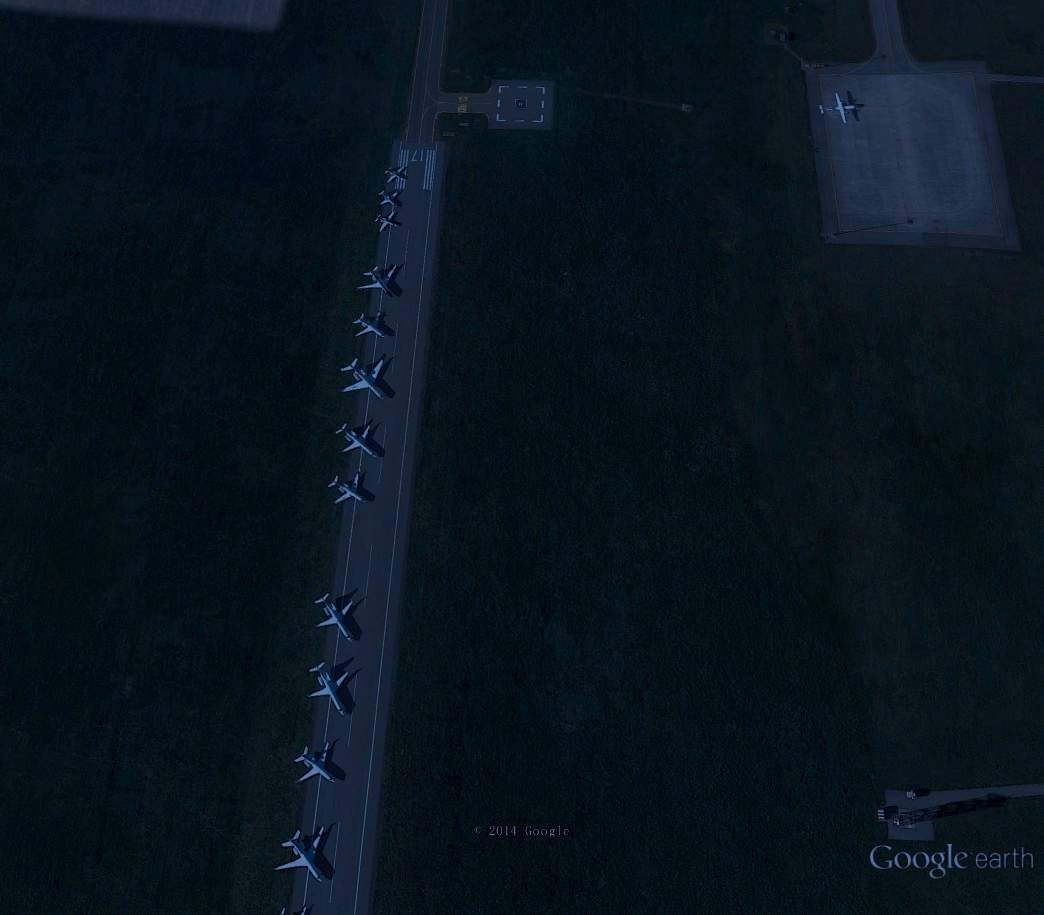aircraft: (276, 822, 334, 892), (301, 655, 354, 721), (309, 588, 361, 648), (336, 354, 390, 408), (328, 417, 384, 466), (294, 738, 340, 790), (814, 88, 861, 130), (324, 469, 370, 510), (354, 262, 402, 301), (349, 310, 393, 345), (372, 211, 402, 237), (378, 186, 403, 213), (384, 165, 411, 184)
